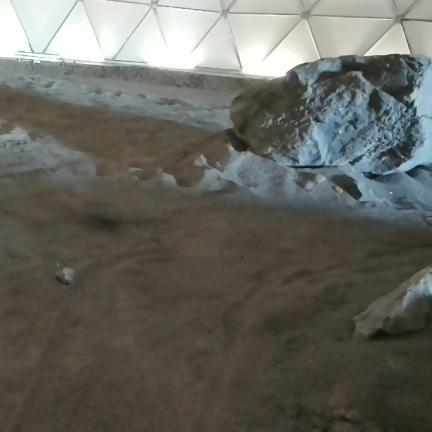Rock: (230, 54, 431, 174), (353, 267, 431, 338), (56, 268, 74, 284), (299, 180, 314, 190), (315, 174, 326, 184), (333, 186, 343, 193)
